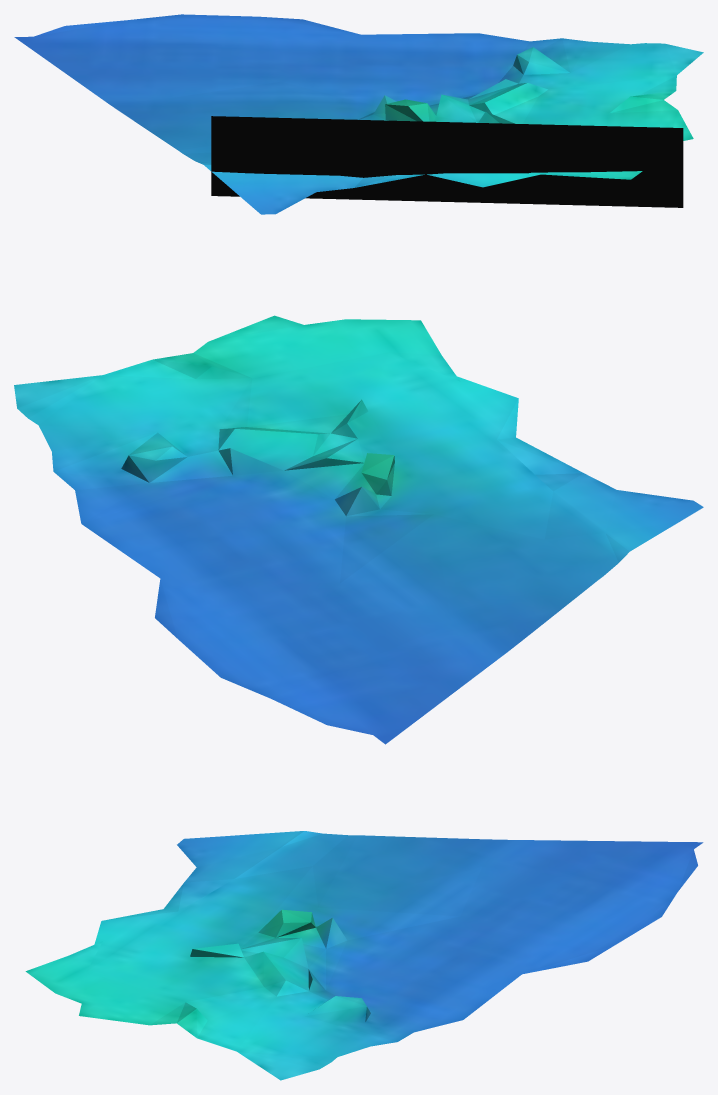
3 renders of one model, top to bottom at view 1: azimuth 30°, elevation 25°; view 2: azimuth 150°, elevation 25°; view 3: azimuth 270°, elevation 25°, orthographic. The views are drawn at different scales.
Bounding box in the file's own units: 57.66 × 9 × 66.91.
Materials: 2 (2 with a texture image).
